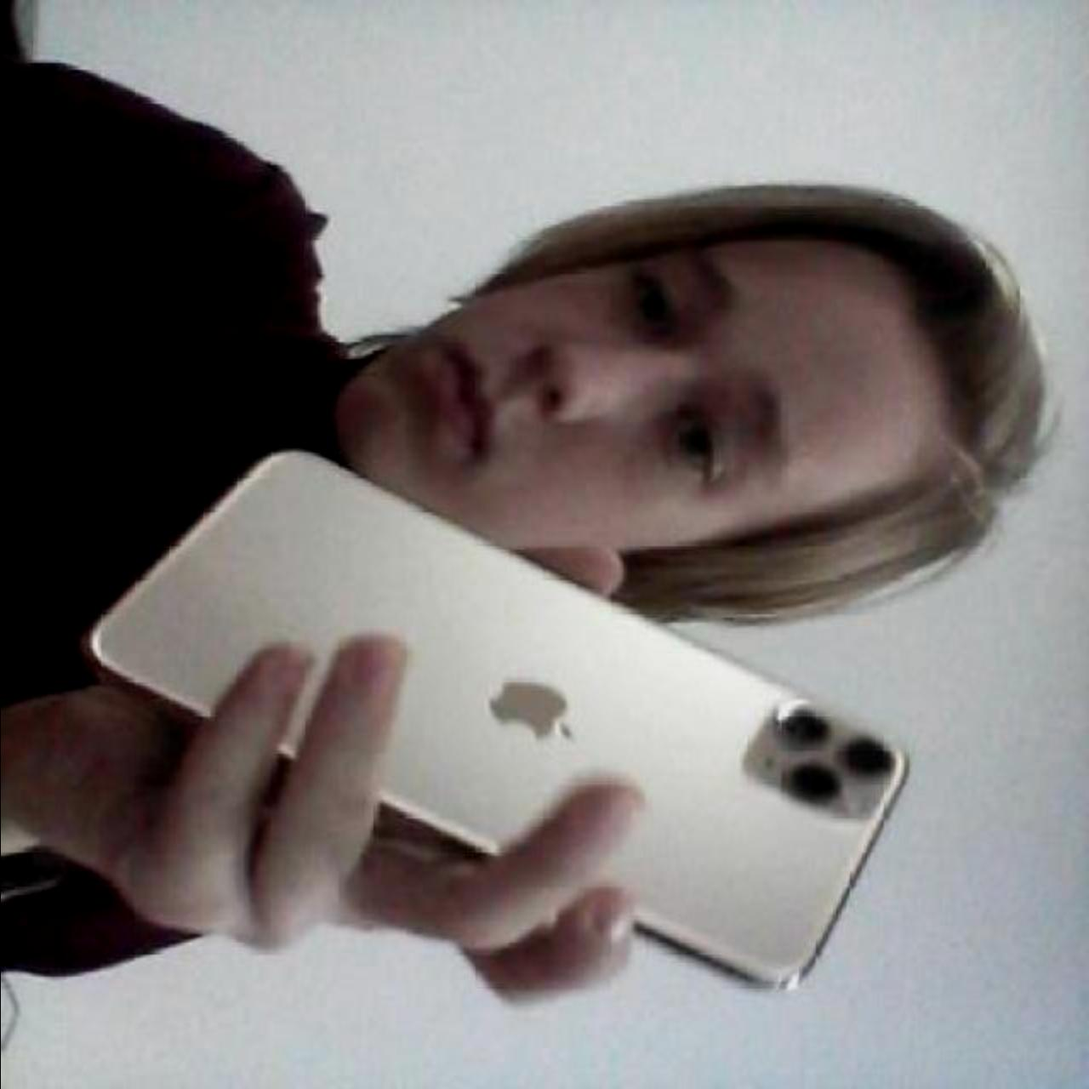phone: (66, 426, 920, 995)
